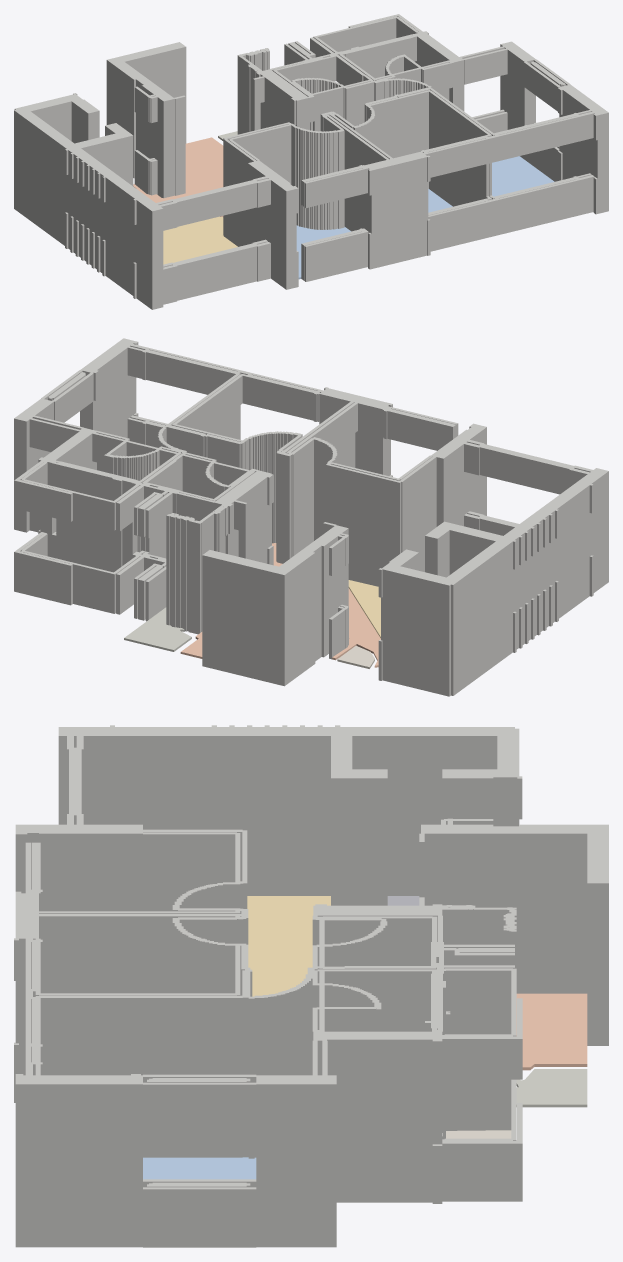
The picture shows the model from 3 angles, top to bottom: view 1: azimuth 30°, elevation 25°; view 2: azimuth 150°, elevation 25°; view 3: azimuth 270°, elevation 25°; orthographic projection. The views are drawn at different scales.
Parts seen in each view (by area): view 1: walls, room:living:3, room:kitchen:0, room:bedroom:6, room:bedroom:4; view 2: walls, room:kitchen:0, room:yard:1, room:living:3, room:other:8; view 3: walls, room:living:3, room:kitchen:0, room:yard:1, room:bedroom:6.
Boxes of the visible parts, left/top/right/bottom form: walls: left=14, top=14, right=608, bottom=309; room:living:3: left=163, top=216, right=237, bottom=264; room:kitchen:0: left=133, top=137, right=223, bottom=216; room:bedroom:6: left=492, top=156, right=554, bottom=196; room:bedroom:4: left=296, top=225, right=350, bottom=279; walls: left=14, top=338, right=608, bottom=696; room:kitchen:0: left=180, top=543, right=380, bottom=667; room:yard:1: left=124, top=607, right=191, bottom=651; room:living:3: left=348, top=580, right=380, bottom=638; room:other:8: left=337, top=646, right=374, bottom=668; walls: left=14, top=725, right=608, bottom=1247; room:living:3: left=247, top=896, right=330, bottom=996; room:kitchen:0: left=516, top=993, right=587, bottom=1070; room:yard:1: left=516, top=1069, right=587, bottom=1107; room:bedroom:6: left=143, top=1157, right=256, bottom=1179.
Bounding box in the file's own units: 13.25 × 2.8 × 9.28.
